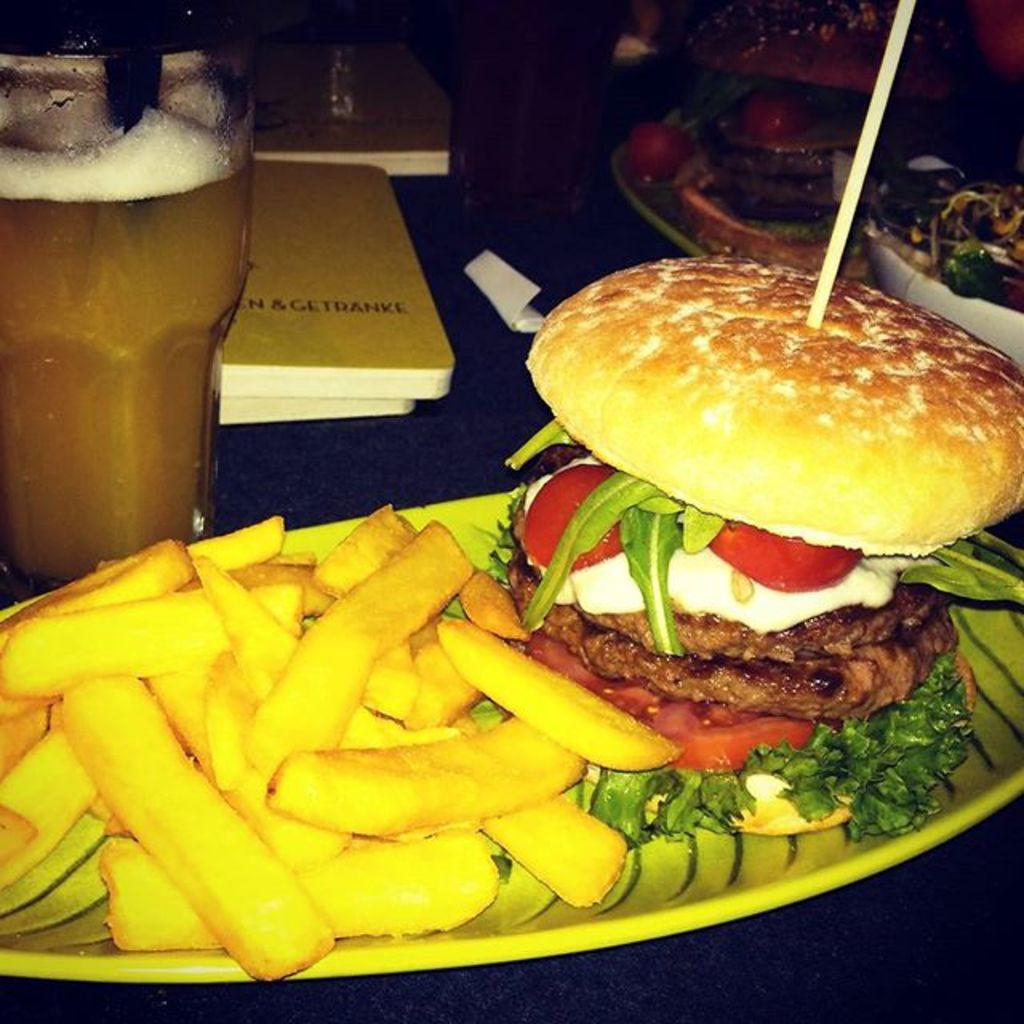French fries: (0, 486, 691, 992)
